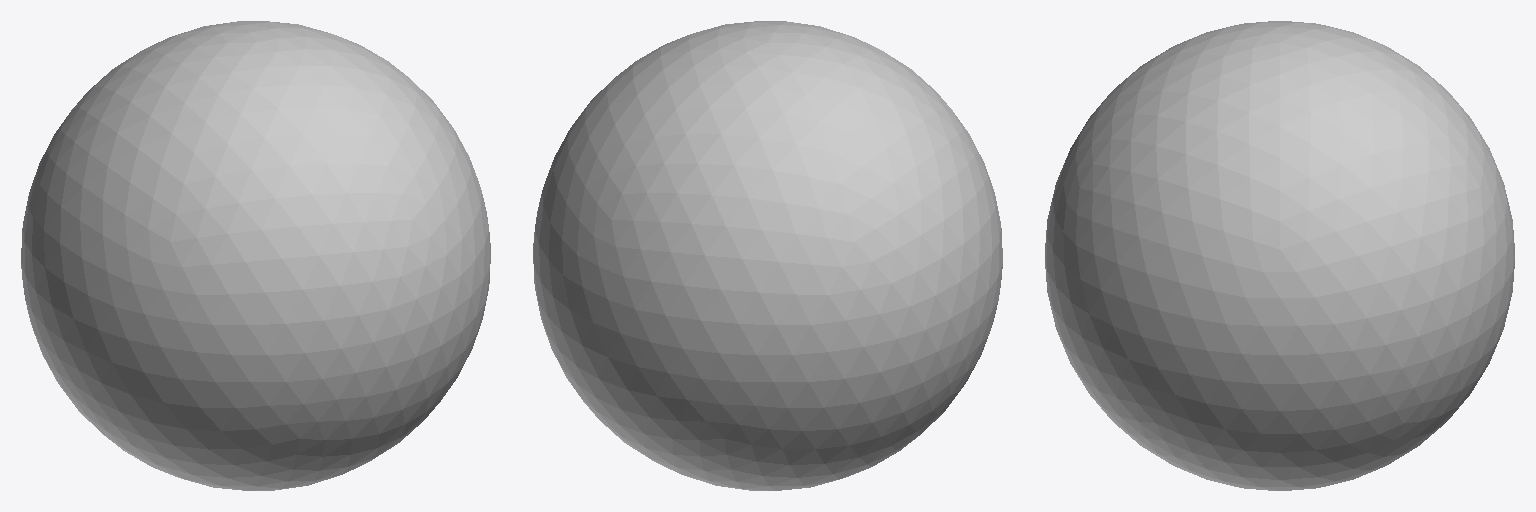
3 renders of one model, left to right at view 1: azimuth 30°, elevation 25°; view 2: azimuth 150°, elevation 25°; view 3: azimuth 270°, elevation 25°, orthographic.
Visible parts, largest first — view 1: stem__0; view 2: stem__0; view 3: stem__0.
Part boxes in pixels (x1,y1,x2,y2): stem__0: (21, 21, 490, 490); stem__0: (533, 21, 1002, 490); stem__0: (1045, 21, 1514, 490).
Size of the model in its own units: 2 by 2 by 2.